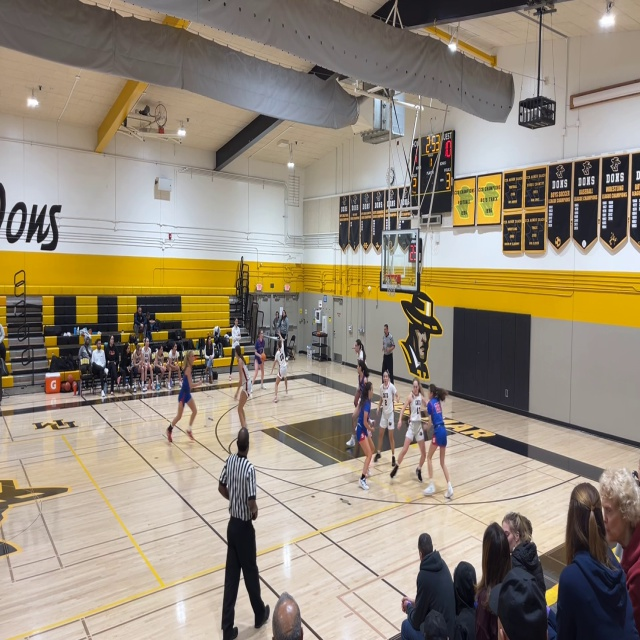Basketball: (260, 352, 266, 360)
